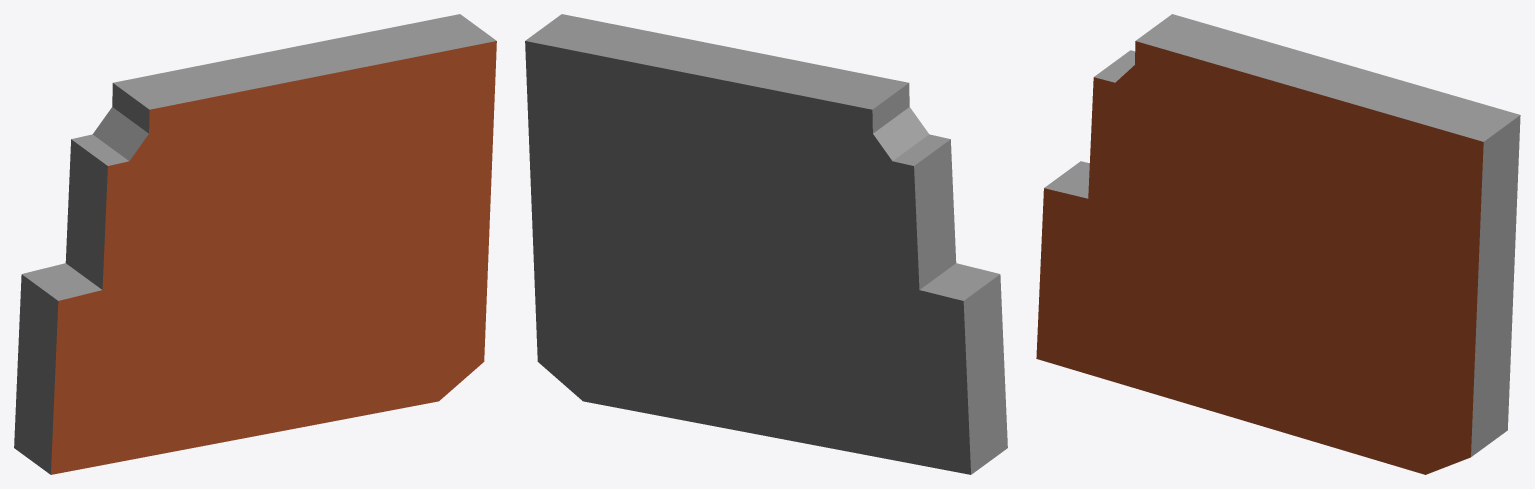
Rendered from construction_6415_assumed_A_Casa_h6m.obj.
The picture shows the model from 3 angles, left to right: view 1: azimuth 30°, elevation 25°; view 2: azimuth 150°, elevation 25°; view 3: azimuth 330°, elevation 25°; orthographic projection.
Parts seen in each view (by area): view 1: construction_6415_assumed_A_Casa; view 2: construction_6415_assumed_A_Casa; view 3: construction_6415_assumed_A_Casa.
Part boxes in pixels (left/top/right/bottom): construction_6415_assumed_A_Casa: left=14, top=14, right=496, bottom=474; construction_6415_assumed_A_Casa: left=525, top=14, right=1007, bottom=474; construction_6415_assumed_A_Casa: left=1036, top=14, right=1520, bottom=474.
Size of the model in its own units: 42 by 32.6 by 6.
